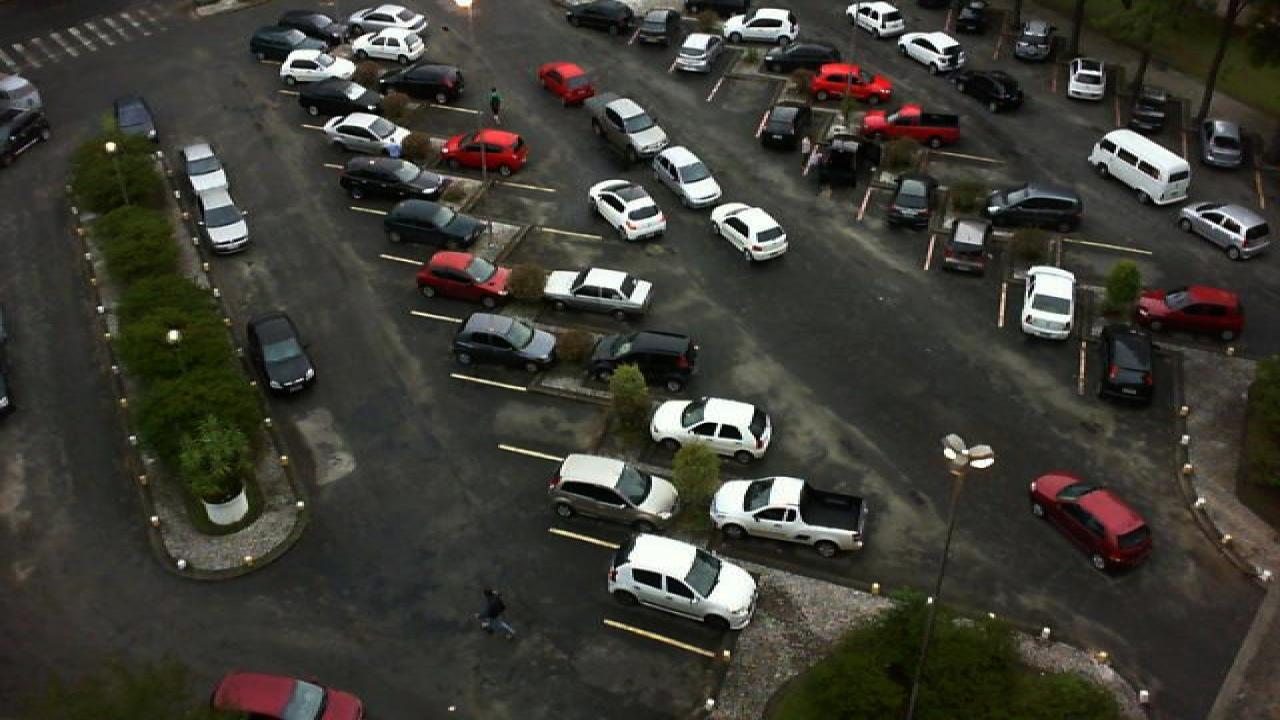Car: (606, 534, 760, 632), (706, 474, 872, 556), (1028, 474, 1154, 569), (548, 454, 680, 534), (648, 396, 774, 464), (1086, 129, 1194, 206), (210, 671, 364, 720), (588, 330, 700, 394), (452, 312, 560, 374), (1136, 284, 1248, 342), (540, 266, 654, 320), (244, 312, 316, 394), (380, 199, 484, 254), (412, 250, 514, 306), (1178, 204, 1272, 261), (588, 97, 670, 161), (706, 202, 788, 264), (588, 179, 668, 242), (648, 146, 726, 210), (320, 111, 418, 161), (340, 156, 438, 205), (858, 102, 962, 148), (1018, 264, 1078, 342), (986, 184, 1086, 230), (1096, 331, 1158, 405), (940, 66, 1026, 115), (440, 130, 530, 176), (192, 188, 252, 255), (806, 62, 894, 105), (378, 63, 464, 106), (938, 217, 1000, 276), (820, 140, 882, 194), (894, 30, 968, 74), (276, 49, 362, 86), (248, 22, 328, 61), (296, 80, 374, 118), (718, 8, 800, 44), (884, 177, 934, 234), (1198, 117, 1250, 170), (756, 102, 810, 153), (350, 31, 428, 66), (180, 140, 230, 194), (536, 62, 596, 107), (762, 41, 838, 76), (110, 94, 160, 144), (846, 0, 908, 39), (568, 0, 636, 34), (350, 4, 426, 34), (278, 9, 348, 41), (672, 31, 720, 74), (1064, 57, 1108, 102), (1012, 19, 1056, 62), (630, 8, 676, 46), (948, 0, 988, 36)
